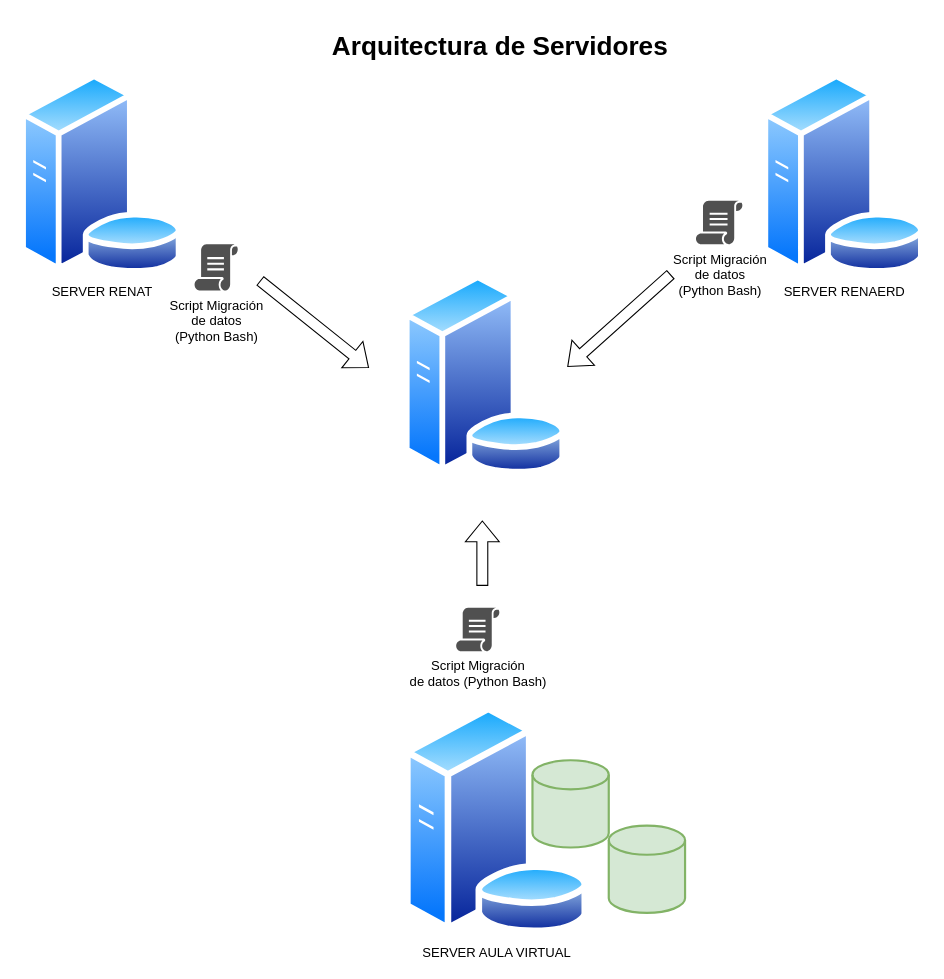
Image size: 944x979. Some labels were removed from this diagram. The centre of each missing label's shape, as x and y in pixels:
"ANTIGUA AULA VIRTUAL" goes at point (570, 803).
"BD. MOD Sincronica Presencial" goes at point (646, 868).
"SERVER ESTRATÉGICO" goes at point (484, 374).
